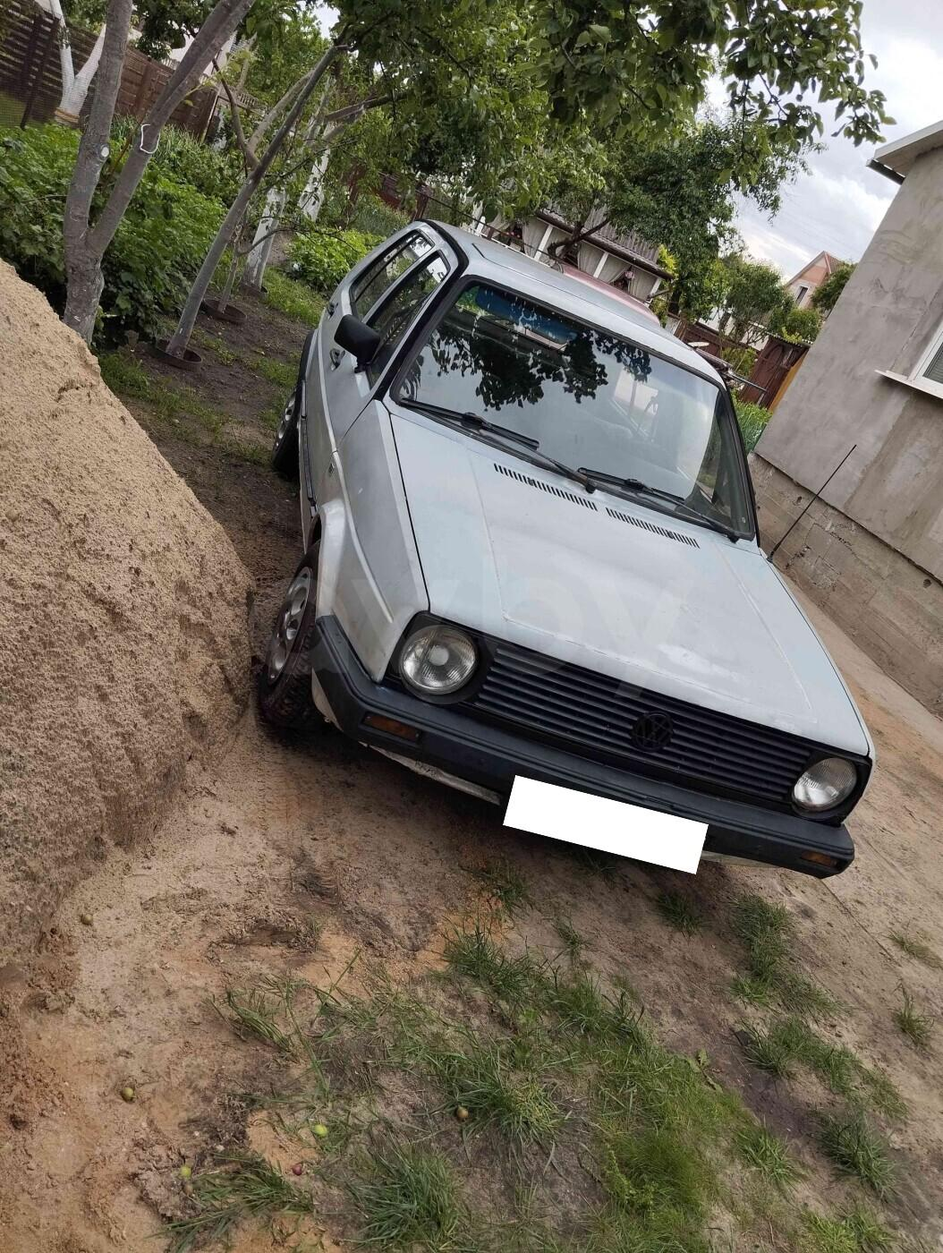Golf_1983-1992: (267, 211, 879, 916)
